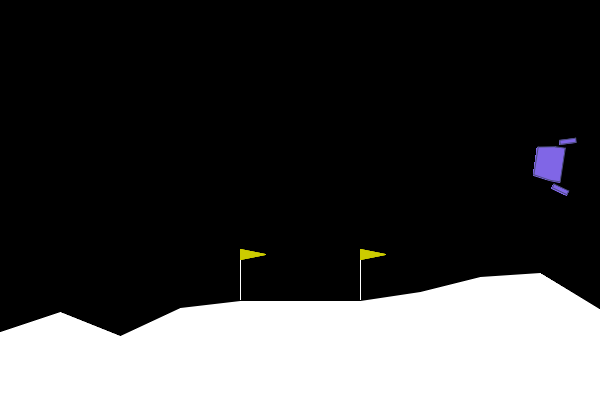lander: (529, 131, 578, 197)
